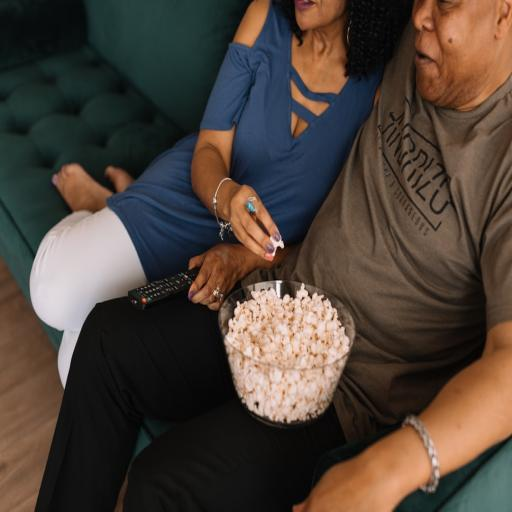face: (413, 0, 497, 110)
